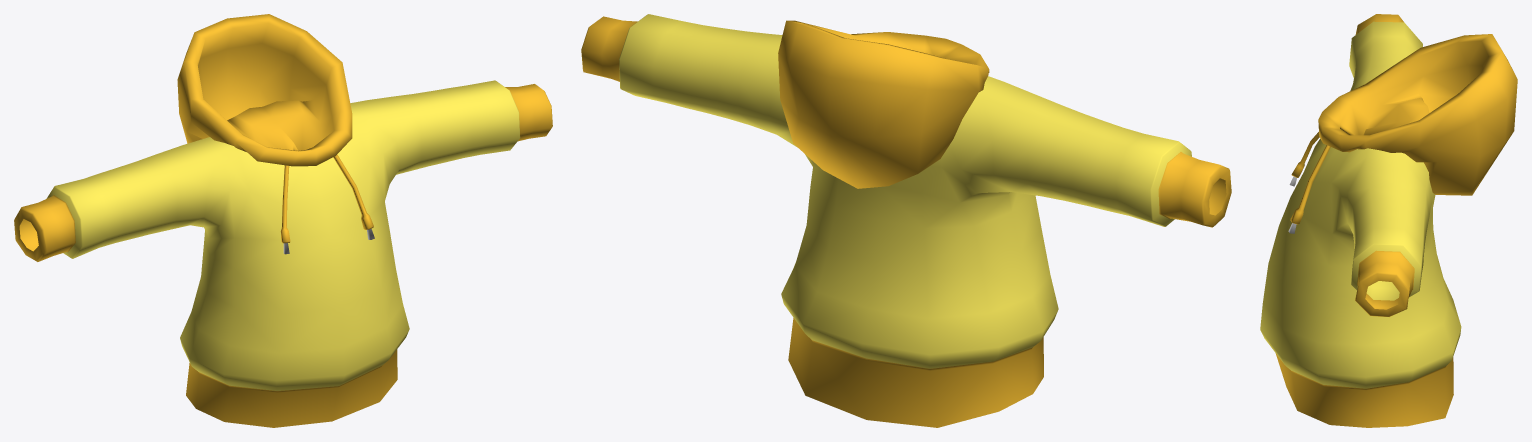
The model's file is Outerwear_Yellow_001.glb.
3 renders of one model, left to right at view 1: azimuth 30°, elevation 25°; view 2: azimuth 150°, elevation 25°; view 3: azimuth 270°, elevation 25°, orthographic. The views are drawn at different scales.
Parts seen in each view (by area): view 1: Outerwear_Yellow_001; view 2: Outerwear_Yellow_001; view 3: Outerwear_Yellow_001.
Boxes of the visible parts, x1,y1,x2,y2 form: Outerwear_Yellow_001: [14, 14, 552, 427]; Outerwear_Yellow_001: [581, 14, 1231, 427]; Outerwear_Yellow_001: [1260, 14, 1517, 427].
Size of the model in its own units: 1.27 by 0.7836 by 0.5333.
1 material, 1 textured.
